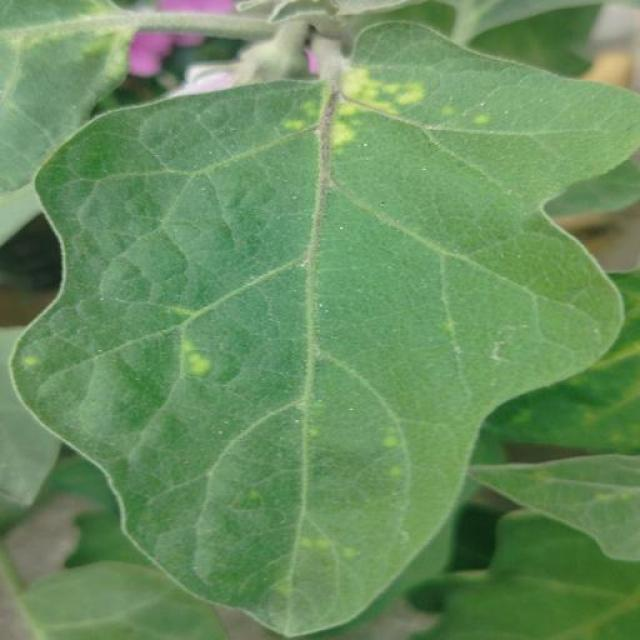leaf_spot: (518, 216, 640, 467), (339, 40, 494, 145), (264, 85, 390, 164), (294, 509, 371, 579), (456, 296, 526, 369), (292, 402, 360, 476), (274, 557, 334, 640), (86, 23, 152, 90), (368, 427, 428, 499), (0, 7, 84, 54), (218, 468, 283, 520), (166, 341, 229, 392), (592, 407, 640, 458), (567, 396, 604, 448), (582, 485, 640, 515), (512, 398, 532, 453), (13, 349, 45, 383), (450, 296, 500, 296)
